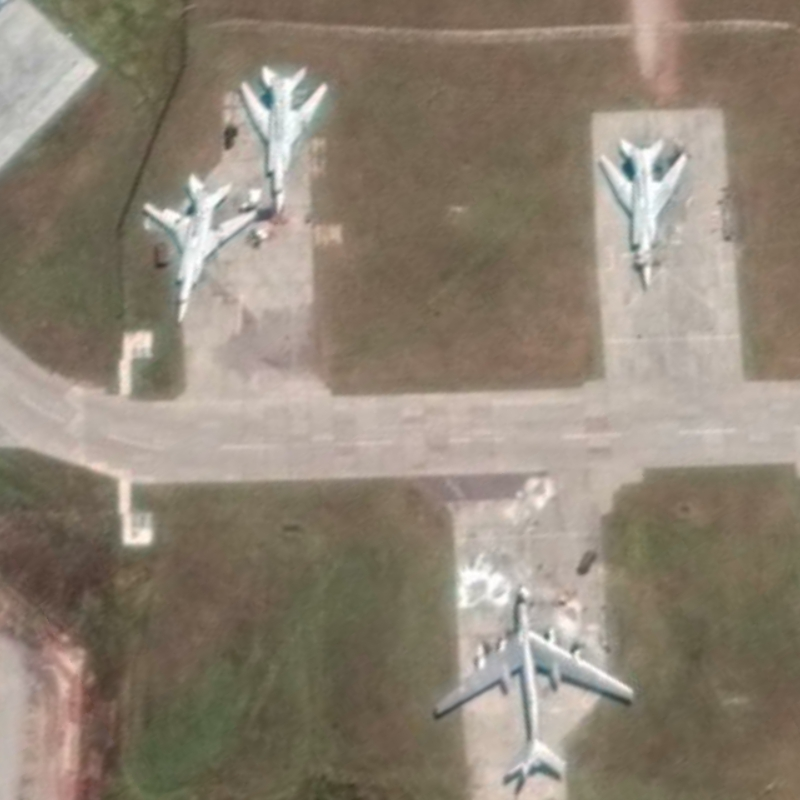A12: (140, 171, 261, 325), (597, 137, 691, 292), (238, 63, 331, 215)
A17: (431, 588, 637, 783)
